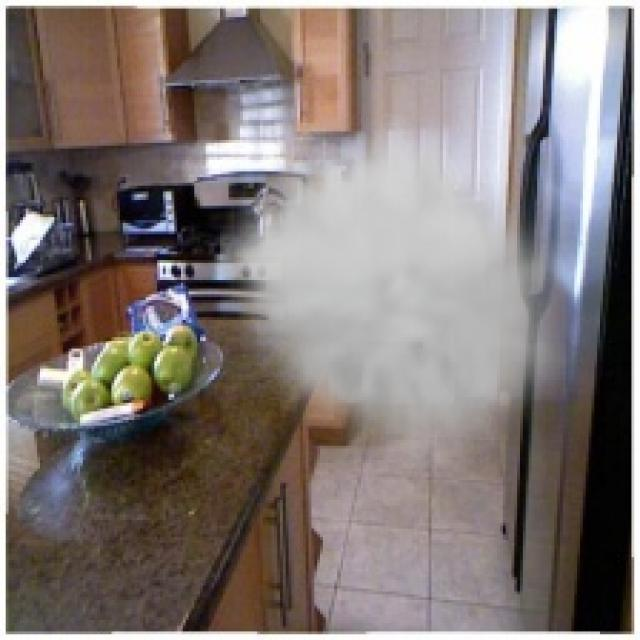Smoke: (220, 114, 566, 469)
